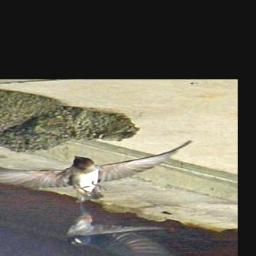Swallow: (0, 139, 197, 205)
